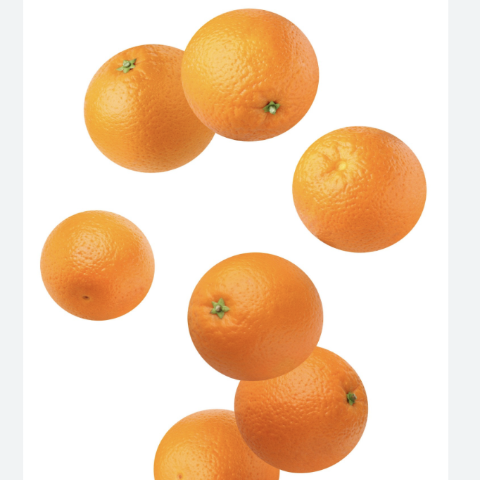orange: (173, 0, 327, 147), (285, 124, 437, 272), (222, 339, 389, 473), (74, 39, 226, 175), (178, 250, 327, 386), (37, 201, 155, 326), (145, 395, 282, 480)
